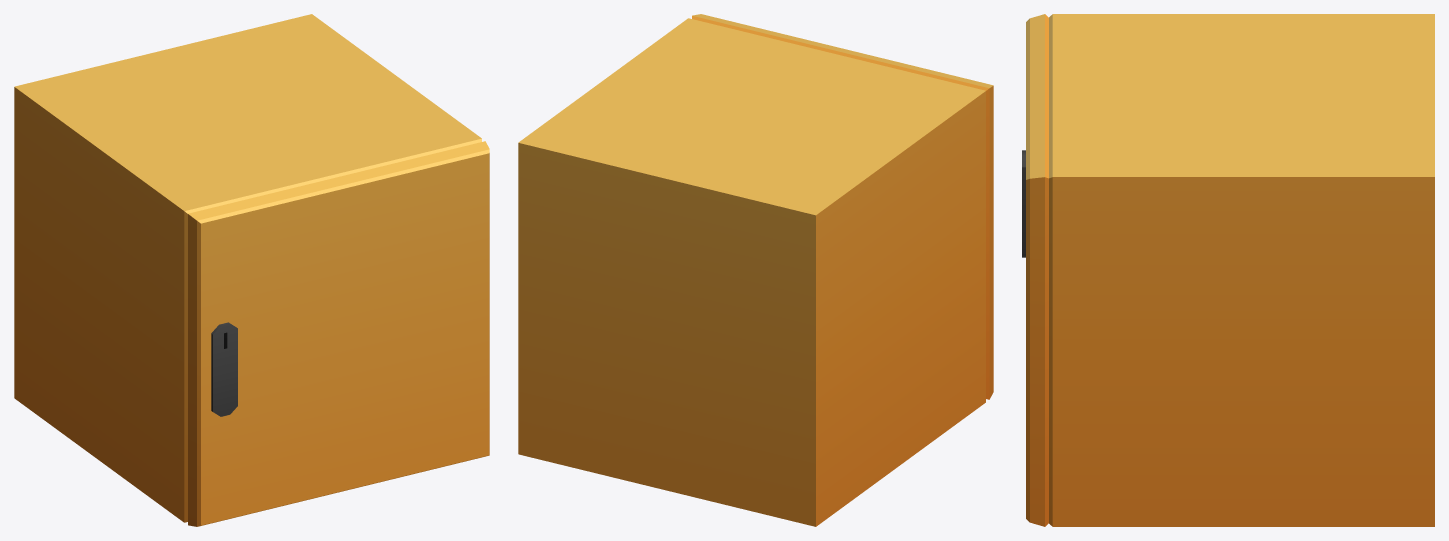
Rendered from CR_LockerB_001.FBX.
3 renders of one model, left to right at view 1: azimuth 30°, elevation 25°; view 2: azimuth 150°, elevation 25°; view 3: azimuth 270°, elevation 25°, orthographic. The views are drawn at different scales.
Parts seen in each view (by area): view 1: CR_LockerB_001, CR_LockerB_001_door; view 2: CR_LockerB_001, CR_LockerB_001_door; view 3: CR_LockerB_001, CR_LockerB_001_door.
Part boxes in pixels (x1=…): CR_LockerB_001: x1=14, y1=14, x2=481, y2=522; CR_LockerB_001_door: x1=188, y1=141, x2=489, y2=526; CR_LockerB_001: x1=518, y1=18, x2=985, y2=526; CR_LockerB_001_door: x1=692, y1=14, x2=993, y2=399; CR_LockerB_001: x1=1049, y1=14, x2=1434, y2=526; CR_LockerB_001_door: x1=1022, y1=14, x2=1048, y2=526.
Size of the model in its own units: 40 by 40 by 42.78.
Materials: 1 (1 with a texture image).
